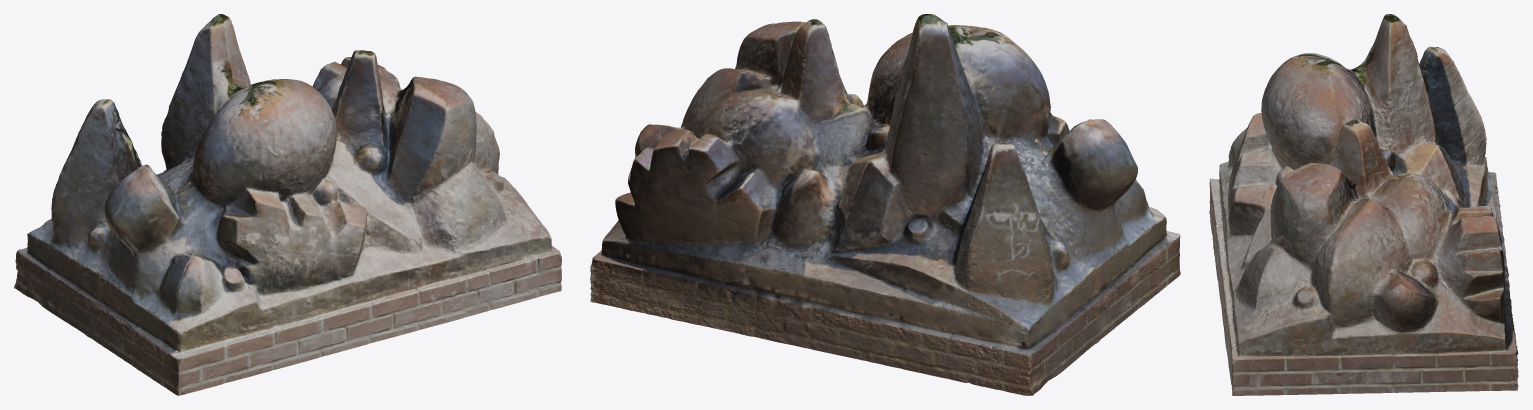
The picture shows the model from 3 angles, left to right: view 1: azimuth 30°, elevation 25°; view 2: azimuth 150°, elevation 25°; view 3: azimuth 270°, elevation 25°; orthographic projection. The views are drawn at different scales.
Parts seen in each view (by area): view 1: 2k.50k; view 2: 2k.50k; view 3: 2k.50k.
Part boxes in pixels (<box>): 2k.50k: <box>14,14,561,395</box>; 2k.50k: <box>590,14,1180,395</box>; 2k.50k: <box>1209,14,1518,395</box>.
Size of the model in its own units: 3.07 by 1.96 by 2.1.
1 material, 1 textured.
